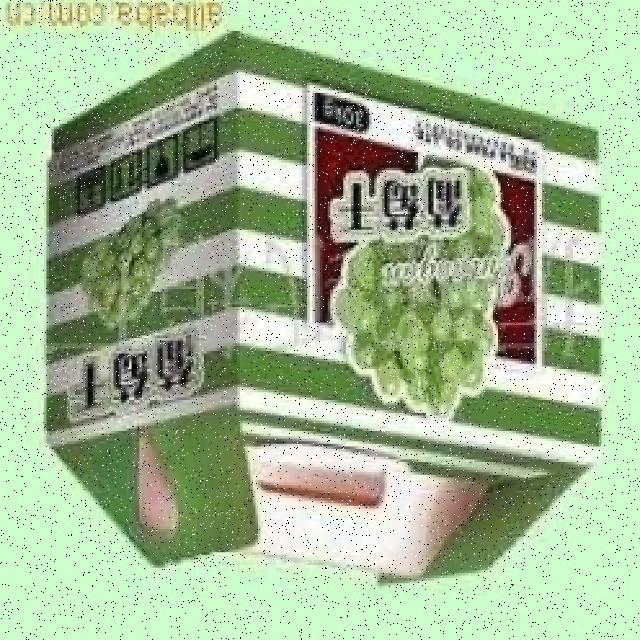box: (8, 15, 614, 605)
